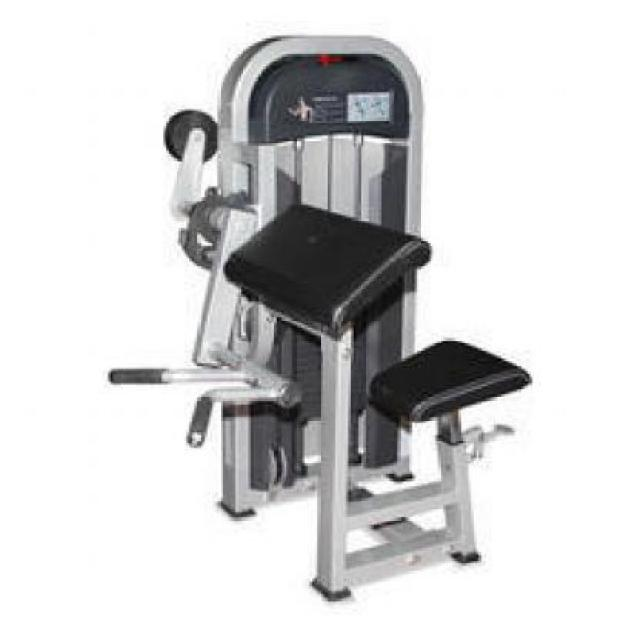arm curl machine: (110, 32, 538, 602)
